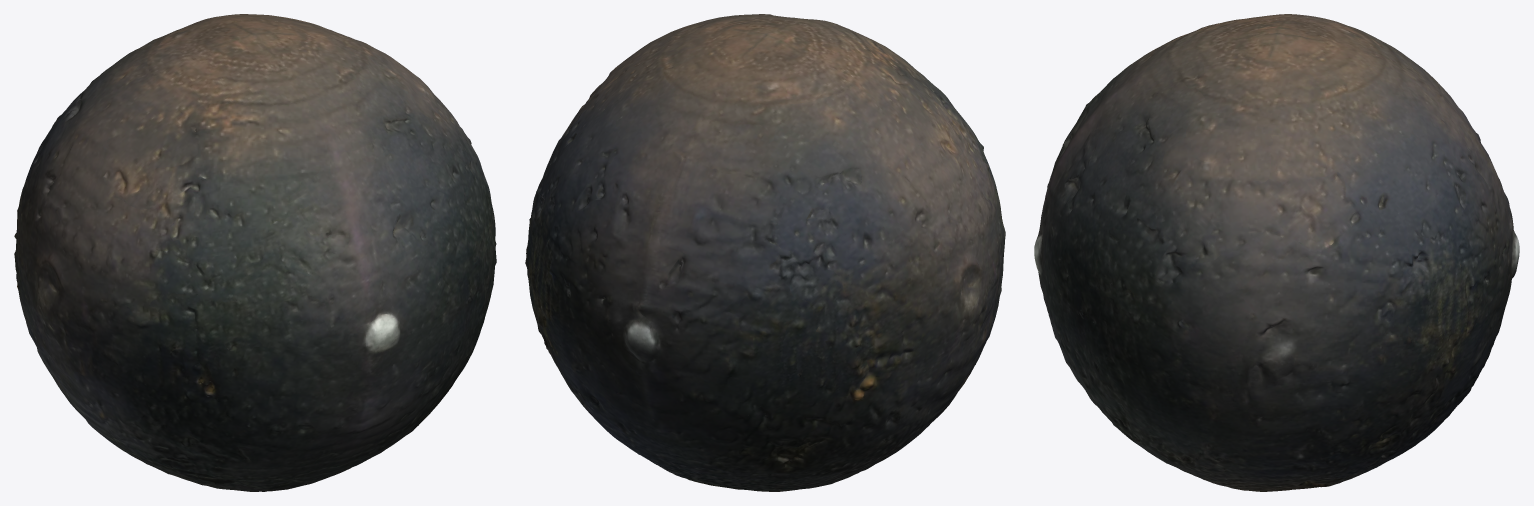
Rendered from kit_cannonball.glb.
The picture shows the model from 3 angles, left to right: view 1: azimuth 30°, elevation 25°; view 2: azimuth 150°, elevation 25°; view 3: azimuth 270°, elevation 25°; orthographic projection.
Visible parts, largest first — view 1: kit_cannonball_s7_fit; view 2: kit_cannonball_s7_fit; view 3: kit_cannonball_s7_fit.
Boxes of the visible parts, left/top/right/bottom form: kit_cannonball_s7_fit: left=14, top=14, right=496, bottom=491; kit_cannonball_s7_fit: left=525, top=14, right=1005, bottom=491; kit_cannonball_s7_fit: left=1034, top=14, right=1519, bottom=491.
Bounding box in the file's own units: 0.2275 × 0.2272 × 0.2295.
Materials: 1 (1 with a texture image).
